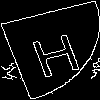H: (25, 24, 85, 79)
